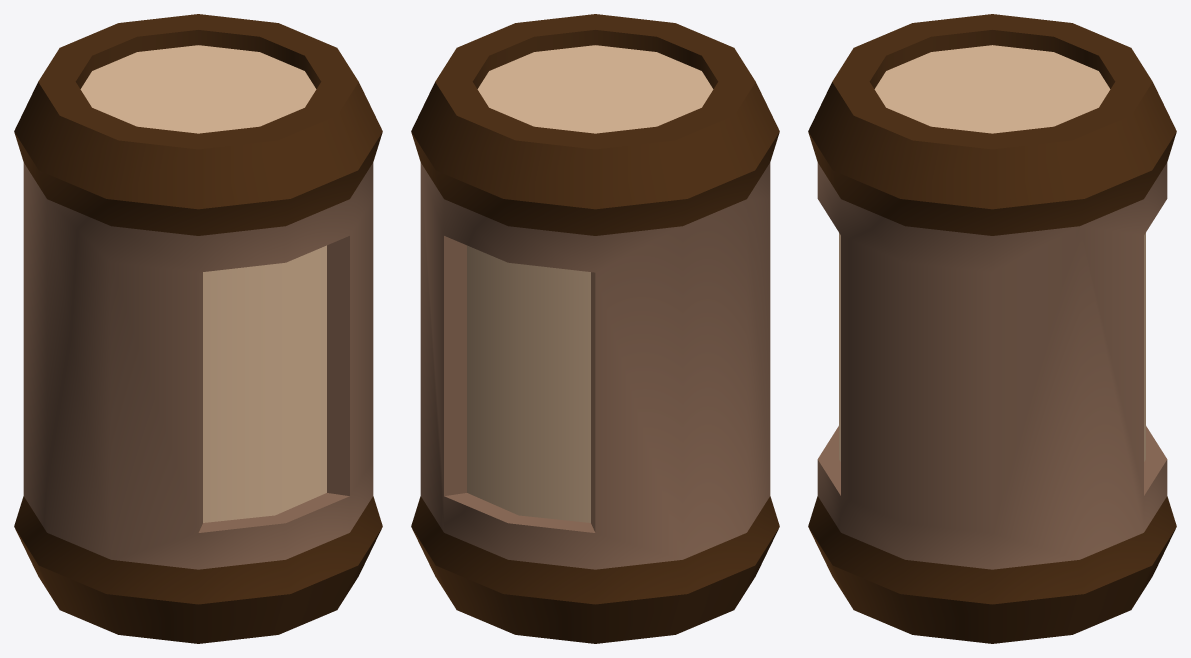
Rendered from quaternius-ultimate-space-pickup-jar.glb.
3 views of the same model, side by side, from view 1: azimuth 30°, elevation 25°; view 2: azimuth 150°, elevation 25°; view 3: azimuth 270°, elevation 25° (orthographic).
Parts seen in each view (by area): view 1: Pickup_Jar; view 2: Pickup_Jar; view 3: Pickup_Jar.
Boxes of the visible parts, bbox=[...] form: Pickup_Jar: bbox=[14, 14, 382, 643]; Pickup_Jar: bbox=[411, 14, 779, 643]; Pickup_Jar: bbox=[808, 14, 1176, 643].
Bounding box in the file's own units: 0.6919 × 1.02 × 0.6919.
1 material, 1 textured.
